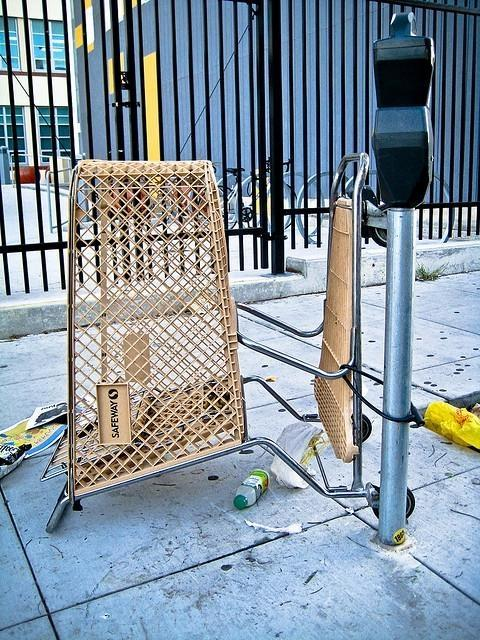bicycle: (218, 186, 252, 230)
